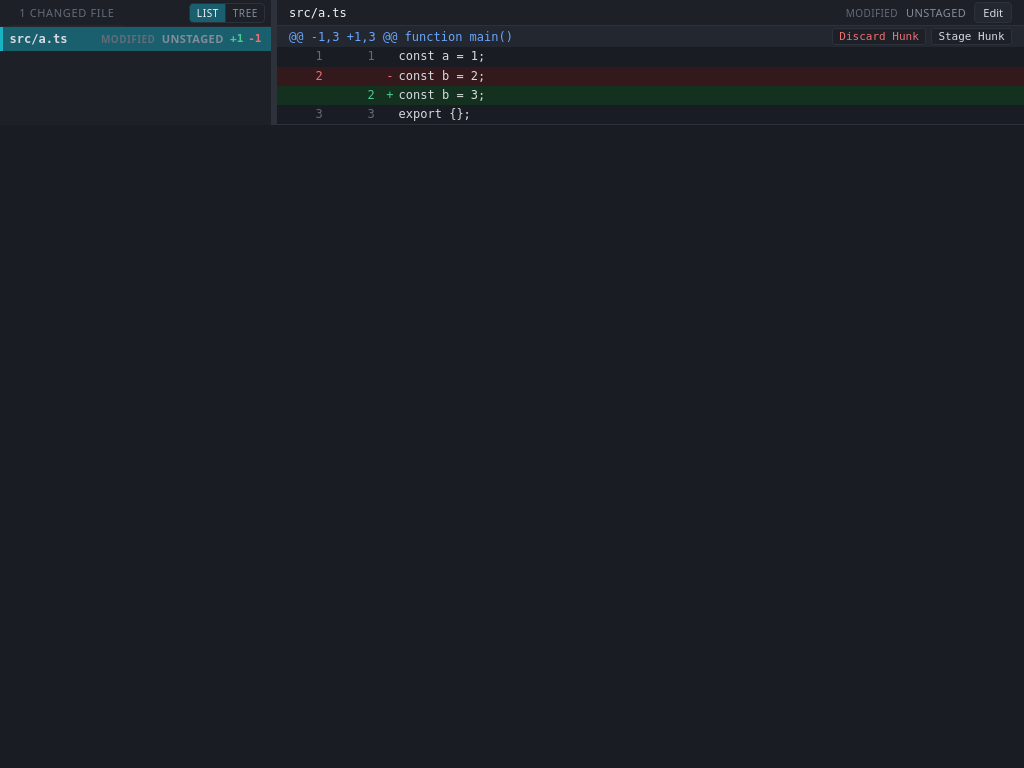
Scenario: per-hunk actions › asks before discarding, and does nothing until the answer
The image size is (1024, 768).
Step 1. Click the button with aria-label "Discard Hunk of src/a.ts" → (879, 37), box [832,28,926,45]
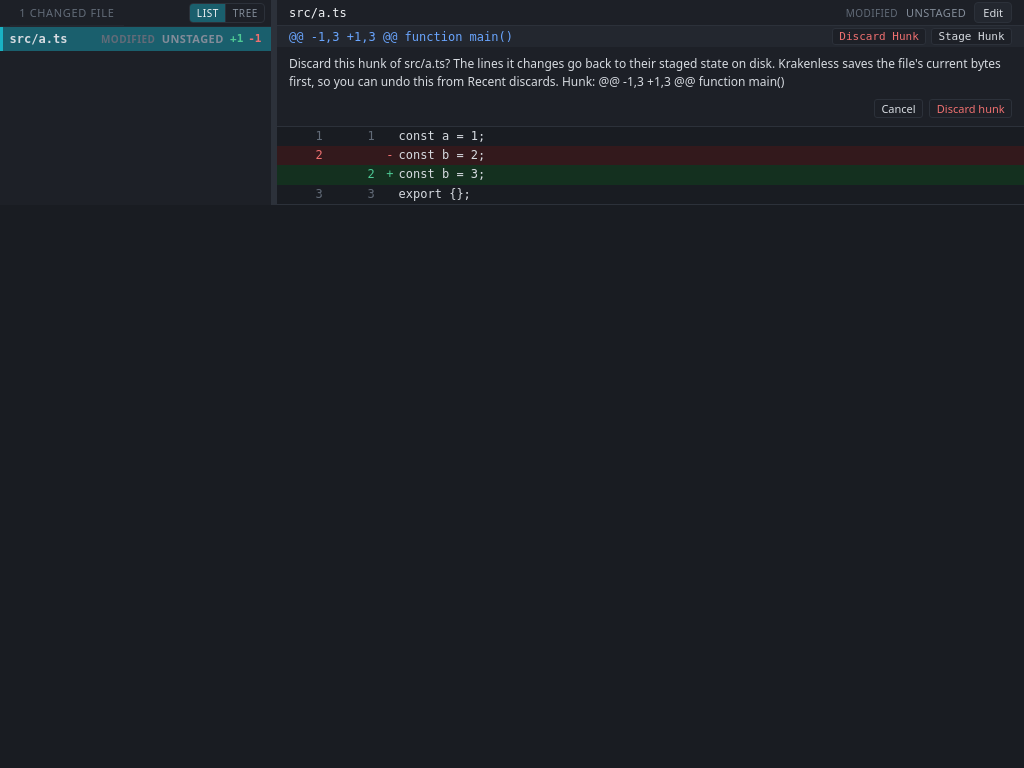
Now the dialog named "Confirm discard hunk" shows "src/a.ts", box [289,55,1001,90]
